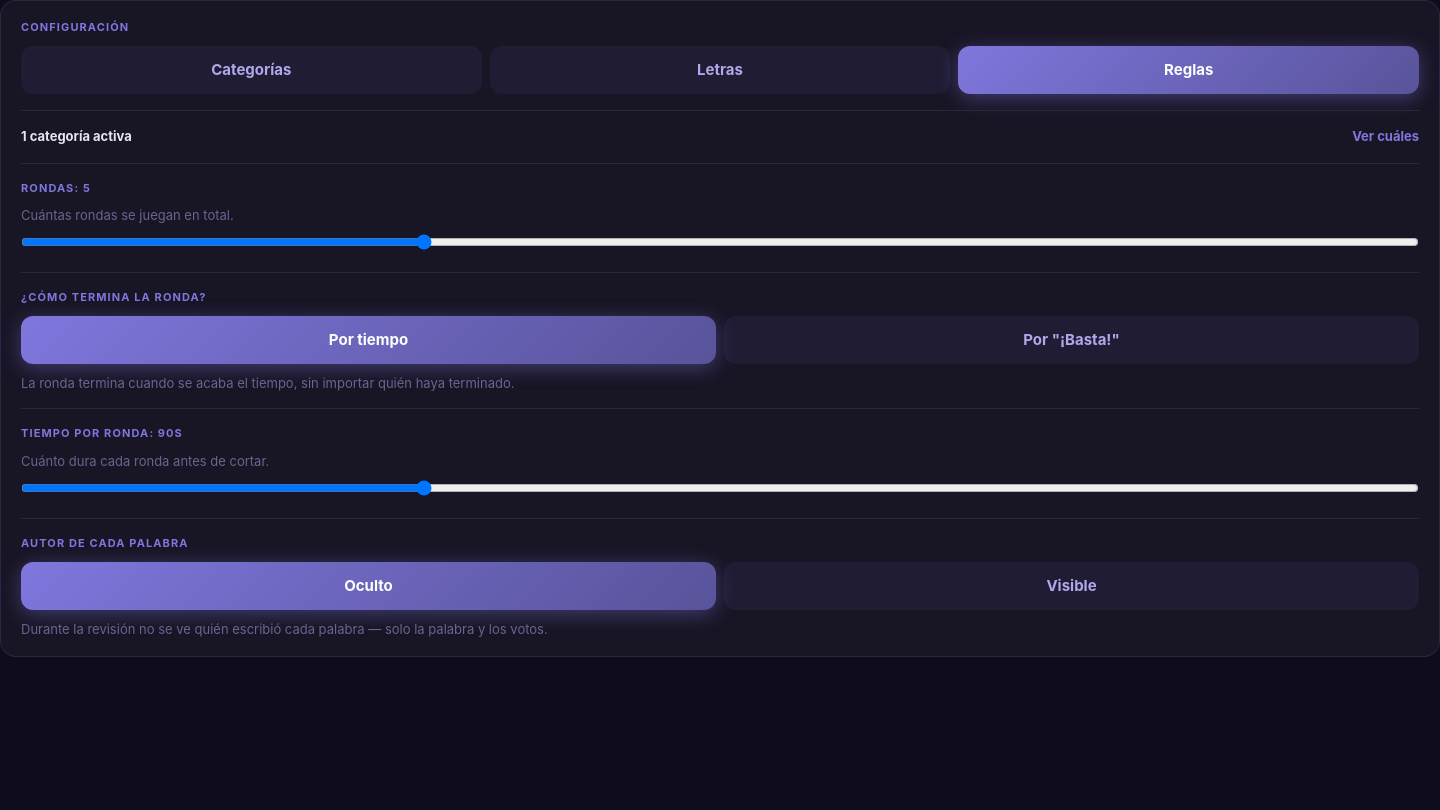
it: Tutifrutti ConfigPanel › active categories summary can be expanded to show which ones are on
expect the text "1 categoría activa" is shown: met, box [21,127,132,146]
expect the text "Nombre" is not shown: met
Click the button "Ver cuáles".
click(1386, 137)  # box [1352,127,1419,146]
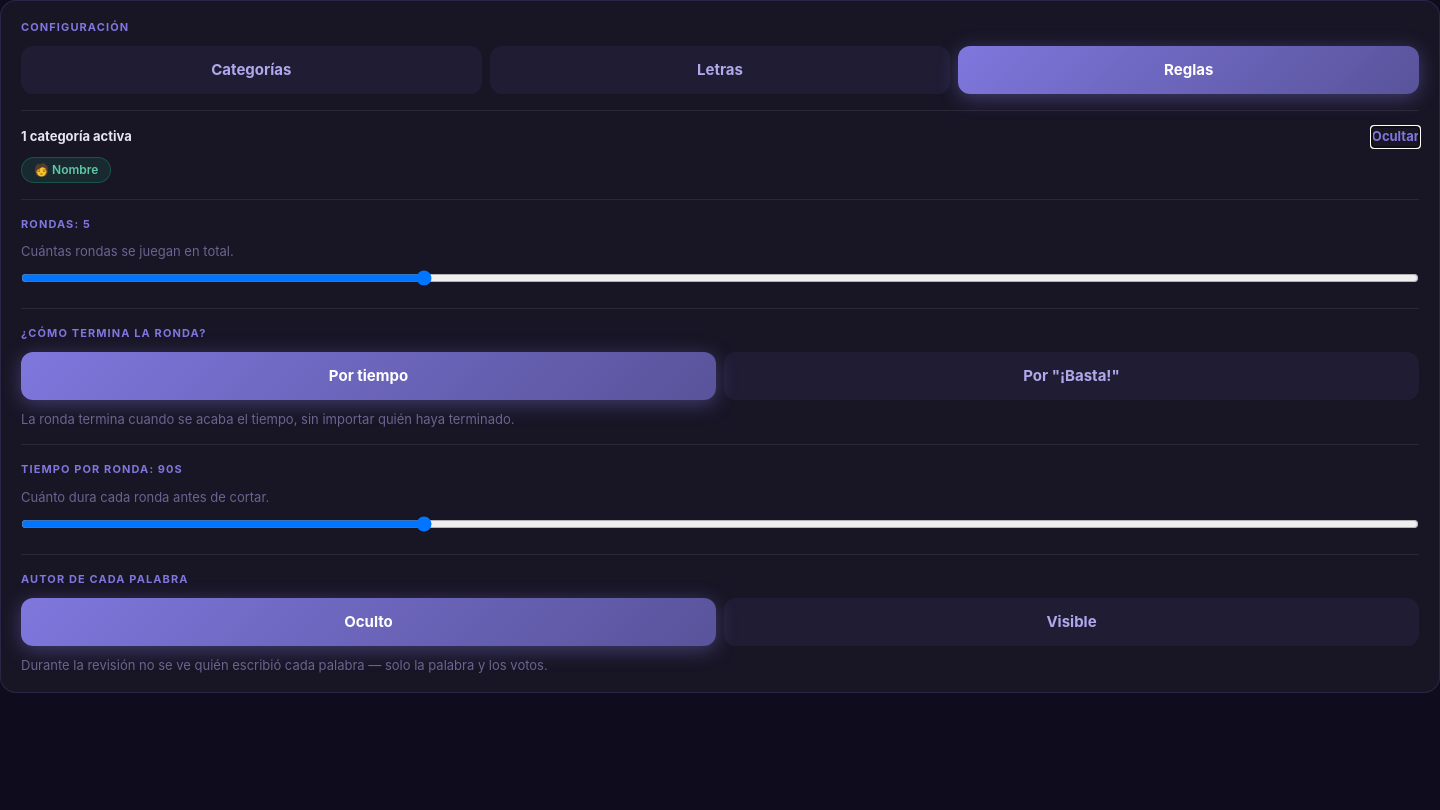
expect the text "🧑 Nombre" is shown: met, box [21,156,111,182]
